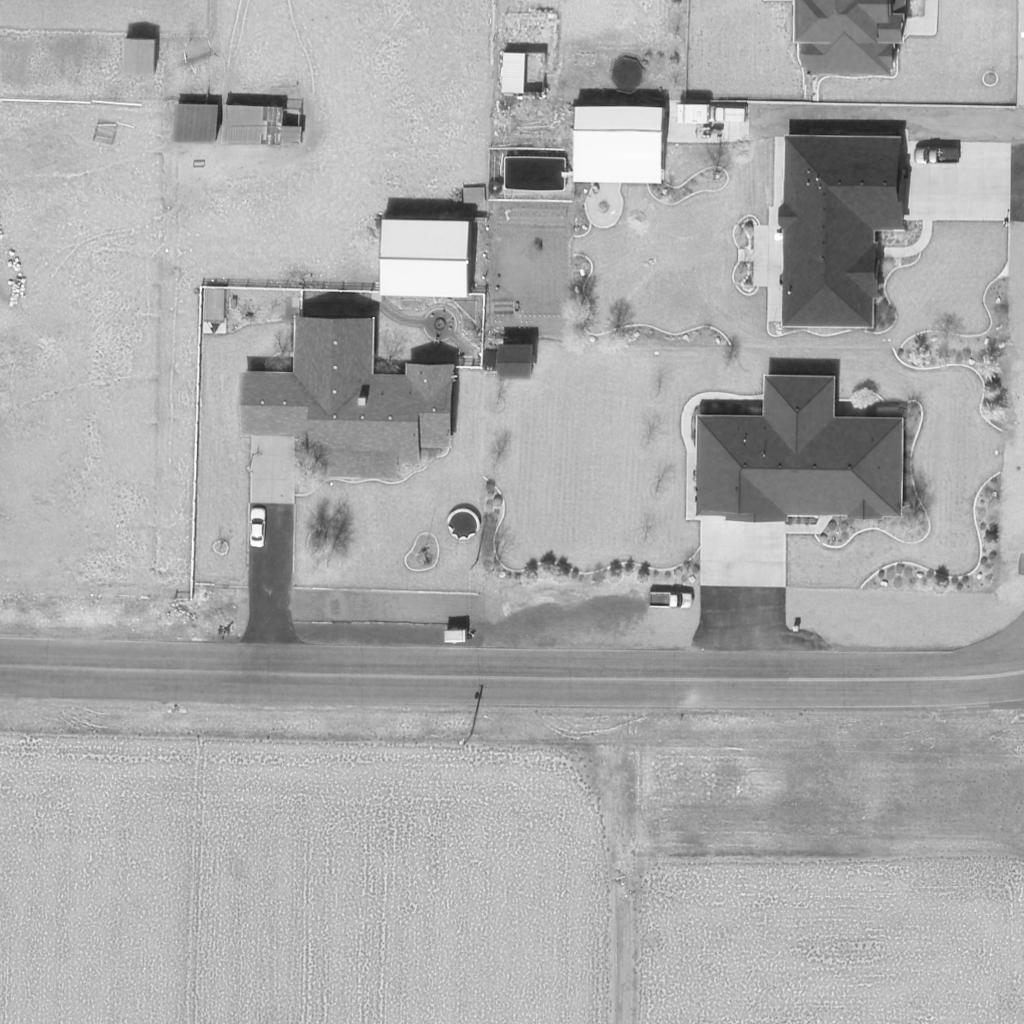vehicle: (676, 105, 748, 125), (913, 145, 963, 165), (649, 593, 693, 609), (250, 508, 266, 550)
